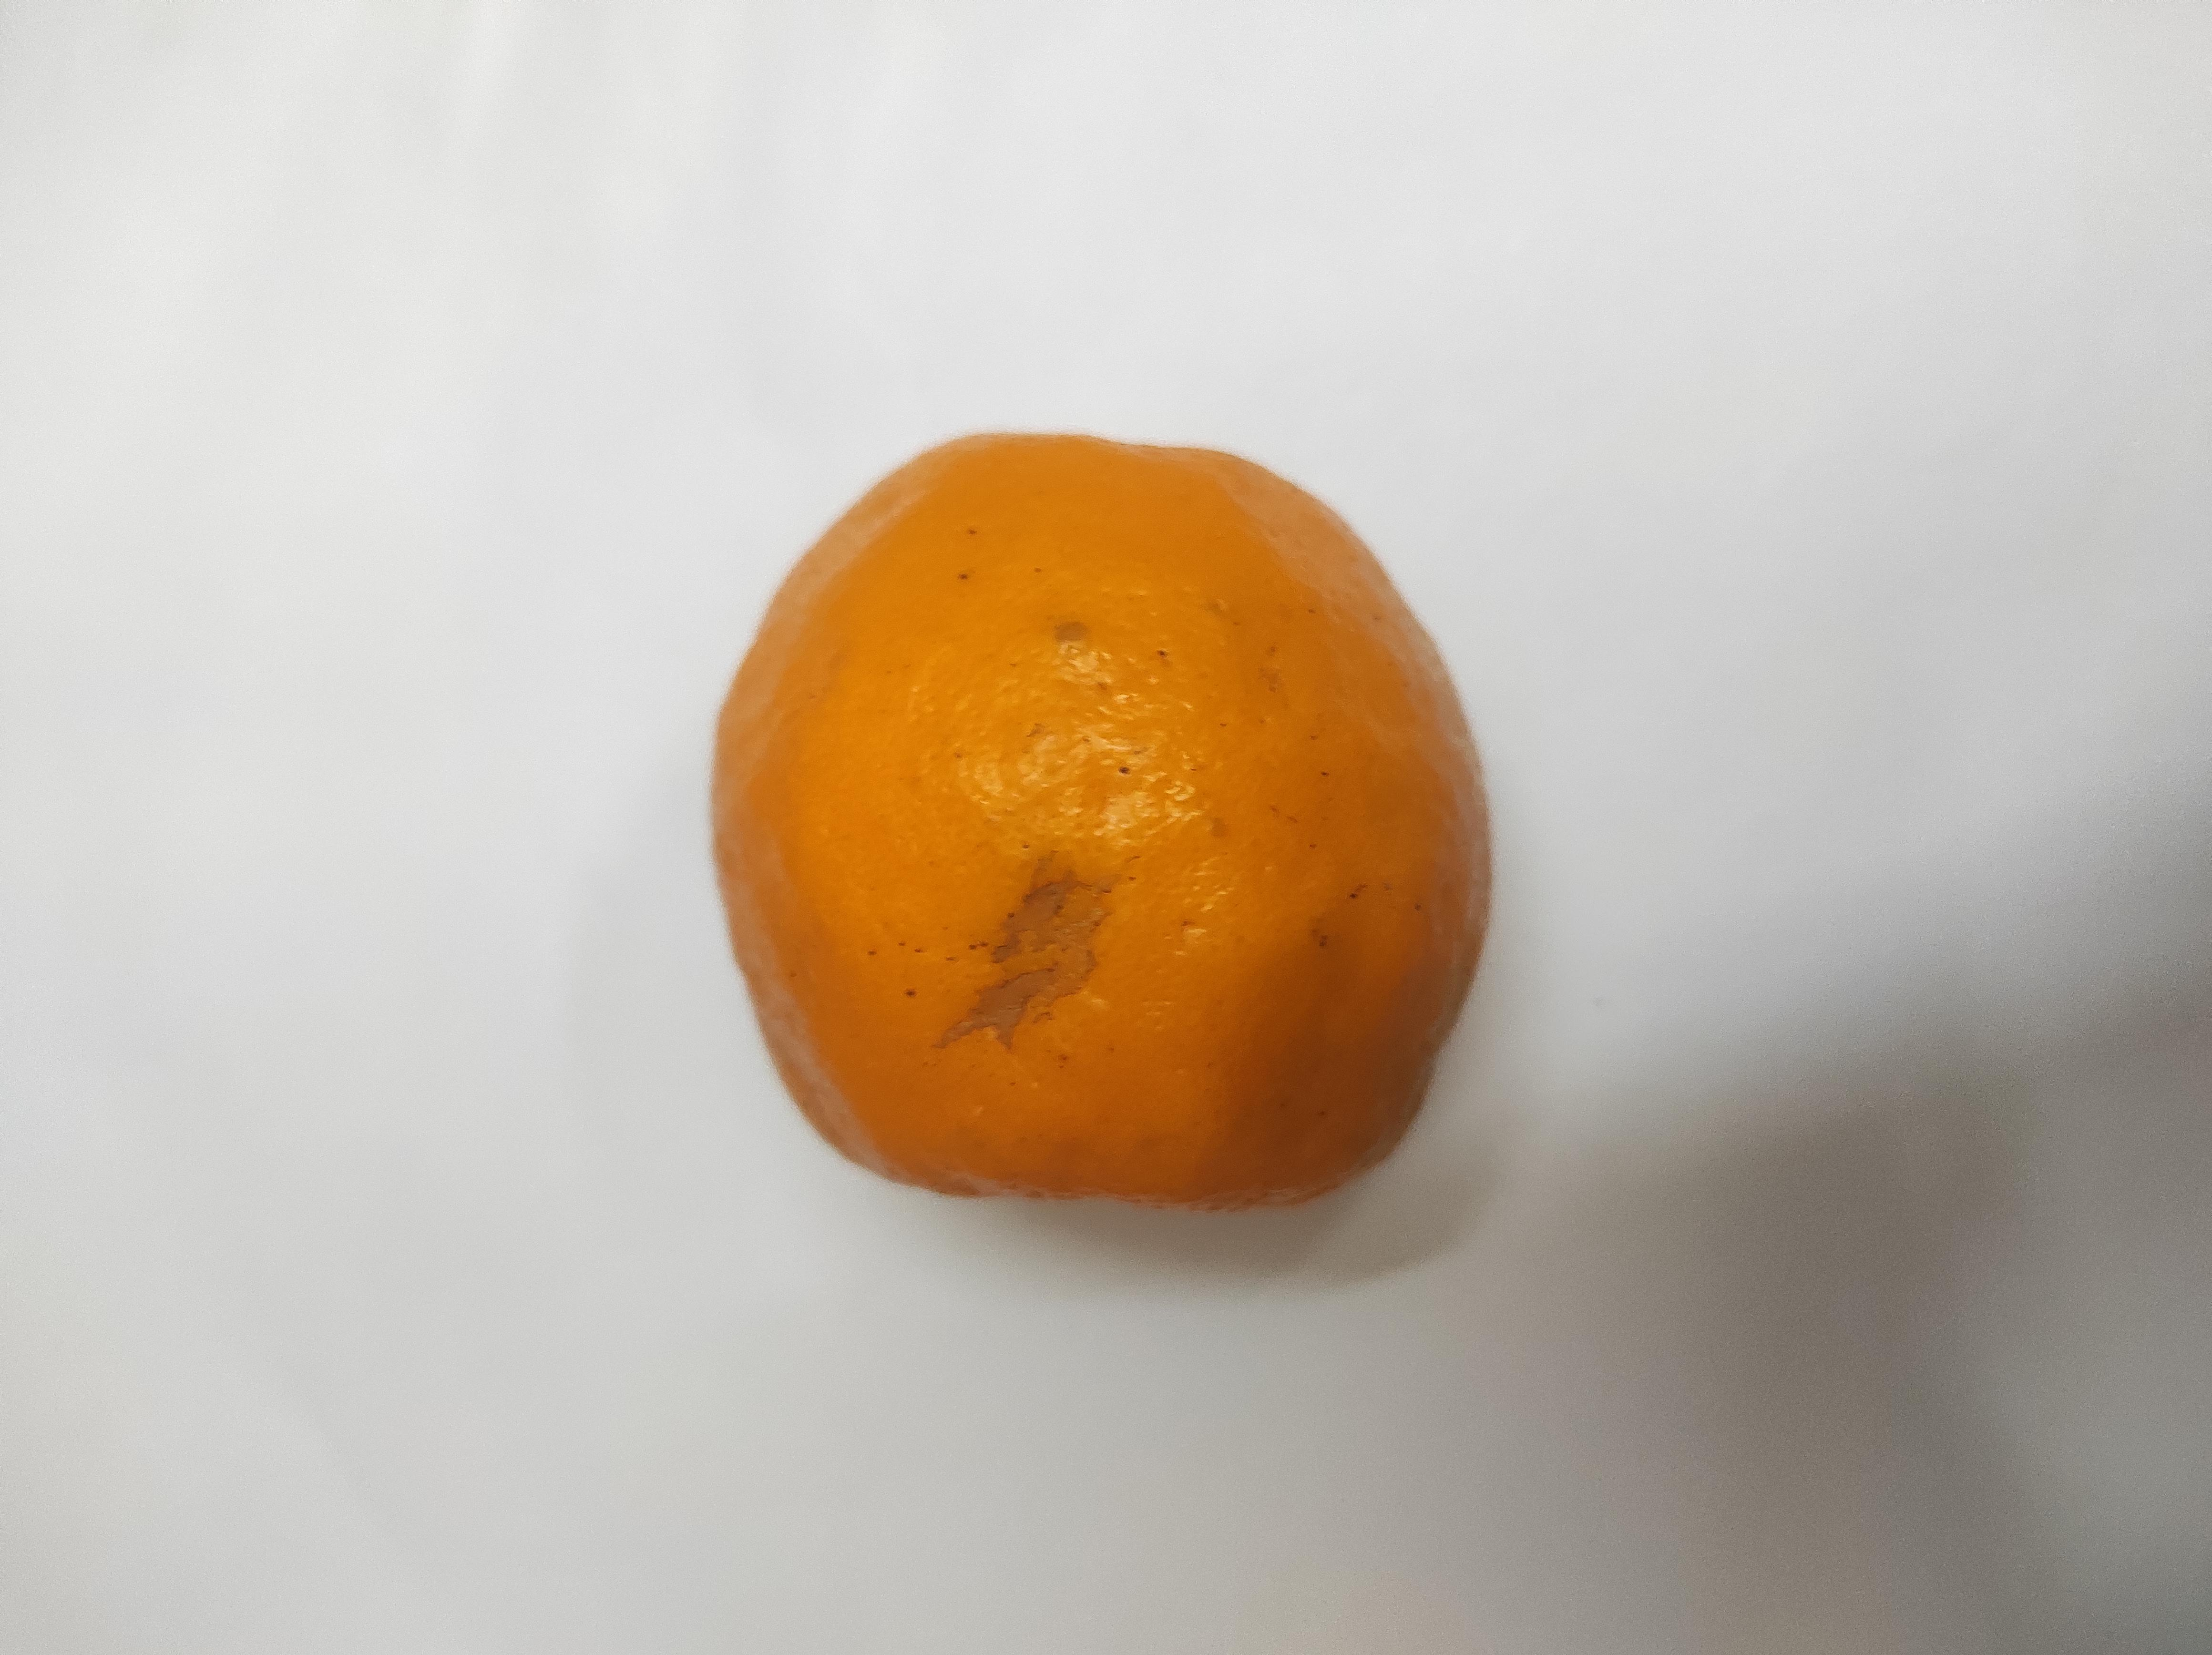Ripe: (593, 528, 1650, 1113)
